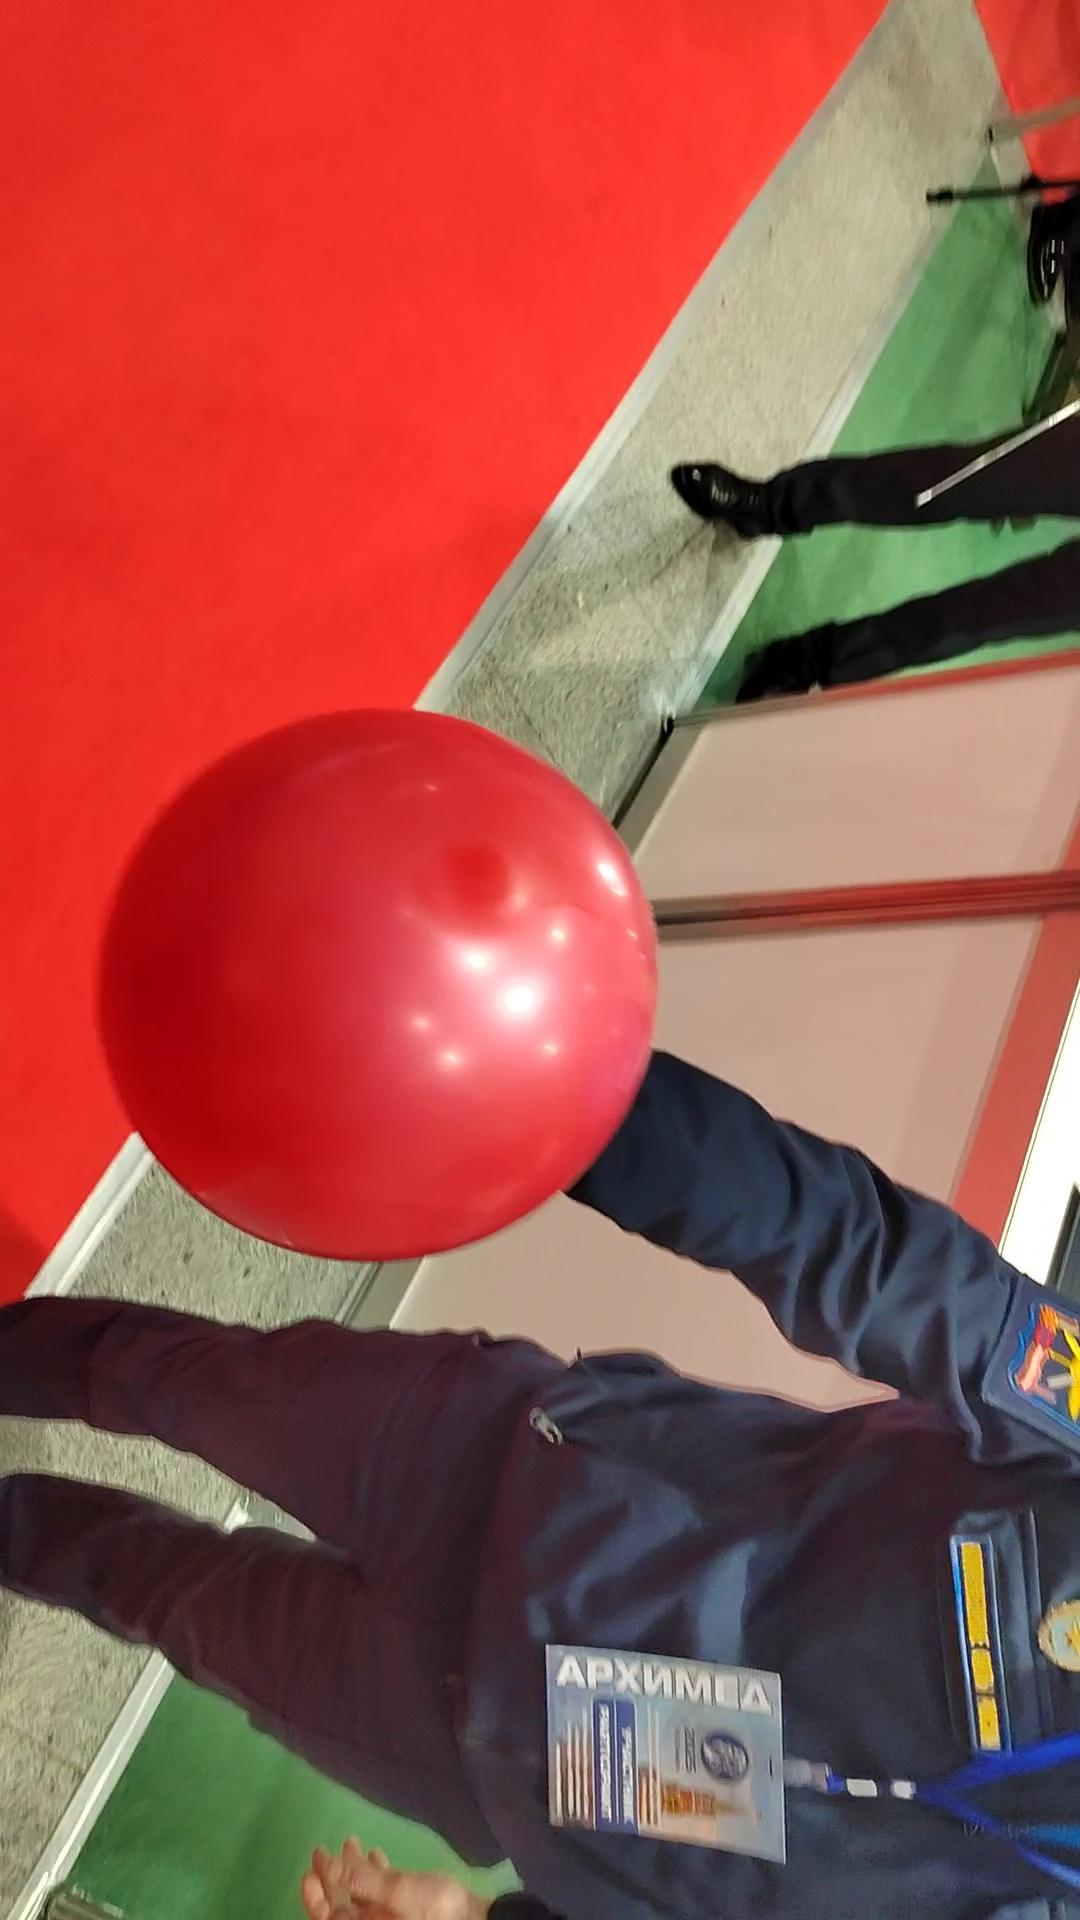red: (96, 711, 657, 1262)
